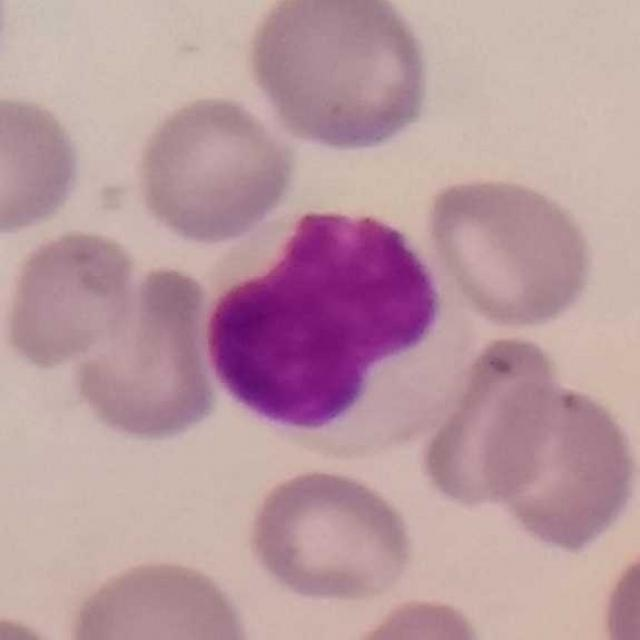Lymphocyte: (200, 200, 479, 476)
RBC: (240, 0, 438, 157), (420, 167, 601, 334), (64, 258, 222, 446), (476, 375, 640, 554), (415, 328, 566, 516), (129, 89, 301, 246), (240, 463, 420, 608), (0, 225, 144, 372), (61, 552, 257, 640), (0, 88, 87, 241), (335, 591, 496, 640), (595, 534, 640, 640), (0, 605, 88, 640), (0, 2, 21, 96)
